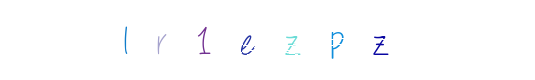1: (226, 0, 306, 80)
E: (227, 0, 307, 80)
L: (197, 0, 277, 80)
P: (247, 0, 327, 80)
R: (210, 0, 290, 80)
Z: (228, 0, 308, 80), (286, 0, 366, 80)
